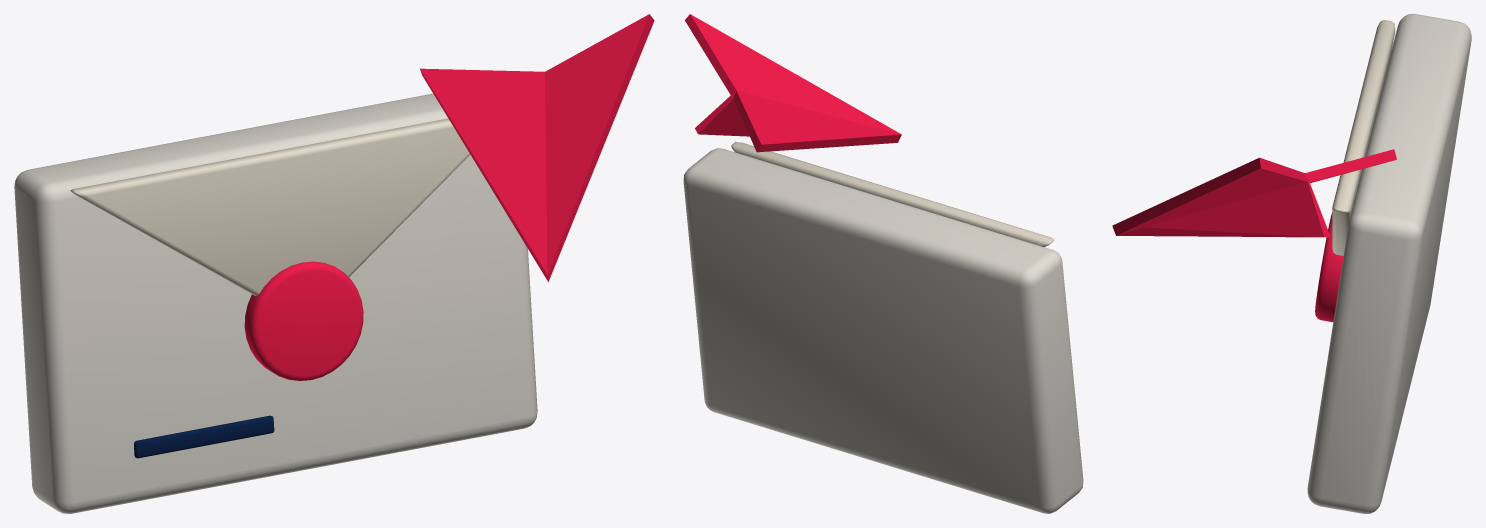
The model's file is screen-mail.glb.
3 renders of one model, left to right at view 1: azimuth 30°, elevation 25°; view 2: azimuth 150°, elevation 25°; view 3: azimuth 270°, elevation 25°, orthographic. The views are drawn at different scales.
Parts seen in each view (by area): view 1: MailBody, MailFlap, MailPaperPlane, MailWaxSeal, MailStripeA; view 2: MailBody, MailPaperPlane, MailFlap; view 3: MailBody, MailPaperPlane, MailFlap, MailWaxSeal.
Boxes of the visible parts, x1,y1,x2,y2 form: MailBody: (14,93,537,513); MailFlap: (70,118,470,295); MailPaperPlane: (420,14,654,281); MailWaxSeal: (244,261,363,380); MailStripeA: (134,415,274,458); MailBody: (683,148,1083,513); MailPaperPlane: (685,14,901,152); MailFlap: (731,142,1053,247); MailBody: (1307,14,1471,513); MailPaperPlane: (1112,149,1396,237); MailFlap: (1332,20,1395,255); MailWaxSeal: (1315,212,1343,322).
Bounding box in the file's own units: 1.73 × 1.28 × 1.05.
